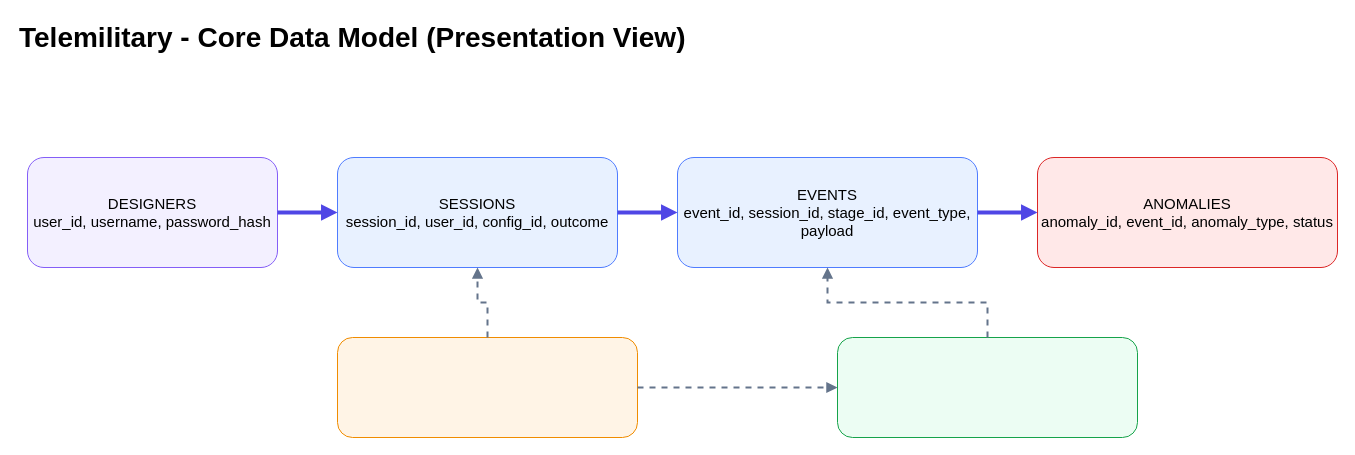
This 1355x455 diagram has some shape labels left out. The shapes that lost their labels are listed below. From the top down, each one's centre as x and y in pixels, then its label:
At (487,387): "CONFIGS + STAGES difficulty setup and stage parameters".
At (987,387): "DECISIONS change_json, rationale, evidence_links".
